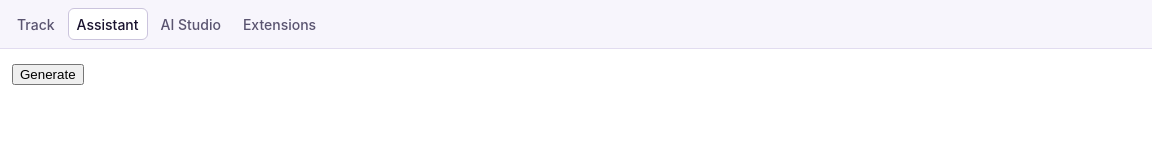
Test: <StudioInspectorPanels /> › exposes the reachable Track inspector surface
The width and height of the screenshot is (1152, 160).
Click the tab "Track" at coordinates (36, 24), box [8,8,64,40]
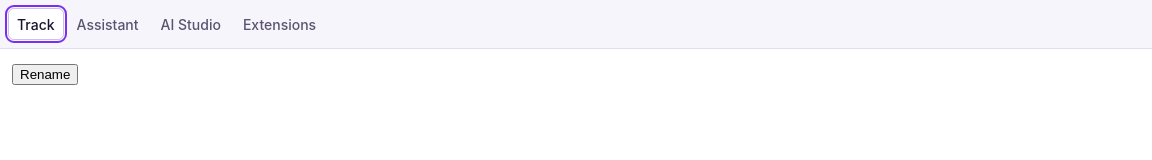
Expected: the button "Rename" is shown, [12,64,78,85]
